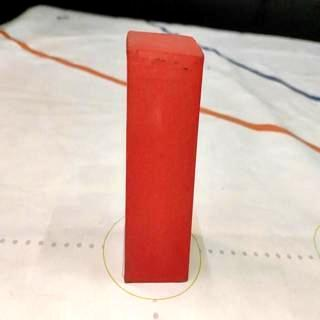redbox: (124, 30, 204, 284)
